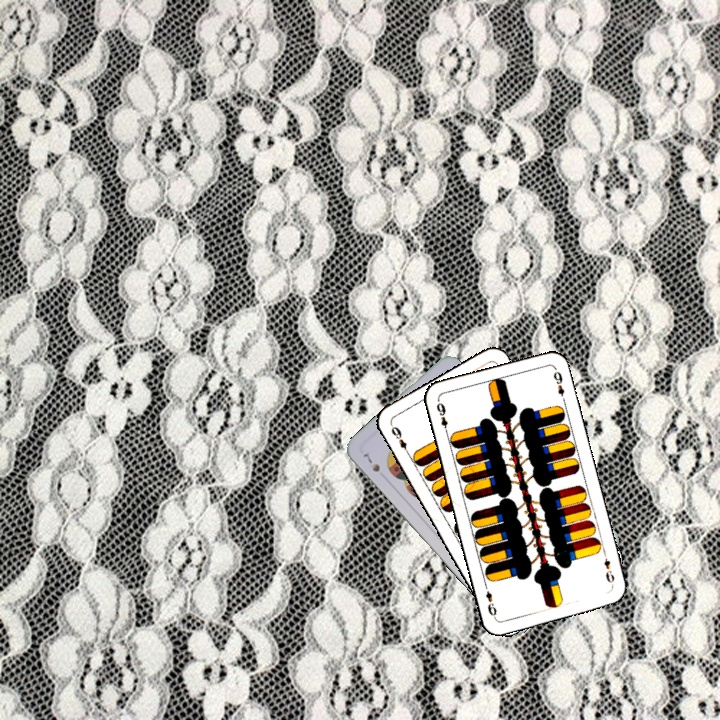E9: (387, 422, 413, 458), (432, 398, 451, 437), (600, 548, 617, 588)
S7: (359, 449, 383, 474)
